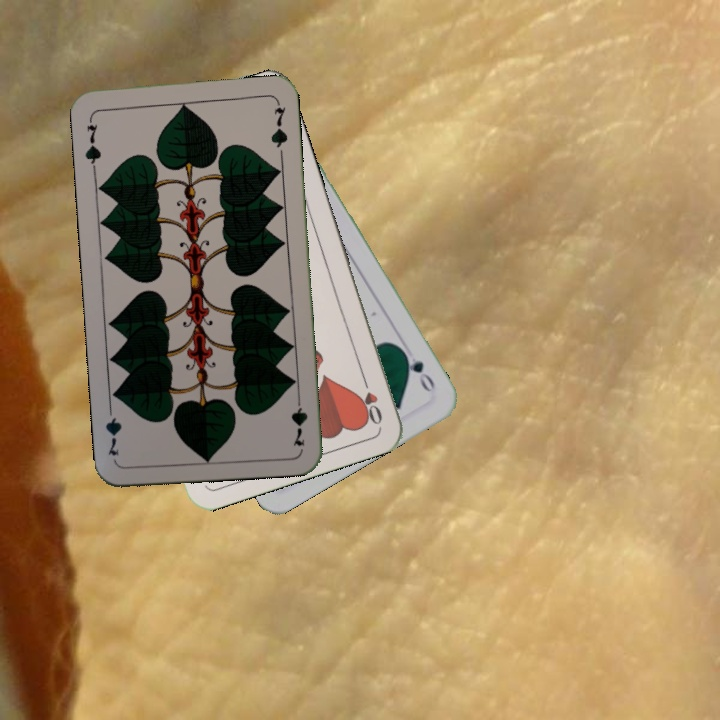G7: (287, 389, 311, 449), (81, 113, 103, 172)
GO: (398, 345, 438, 397)
HO: (357, 370, 385, 428)
